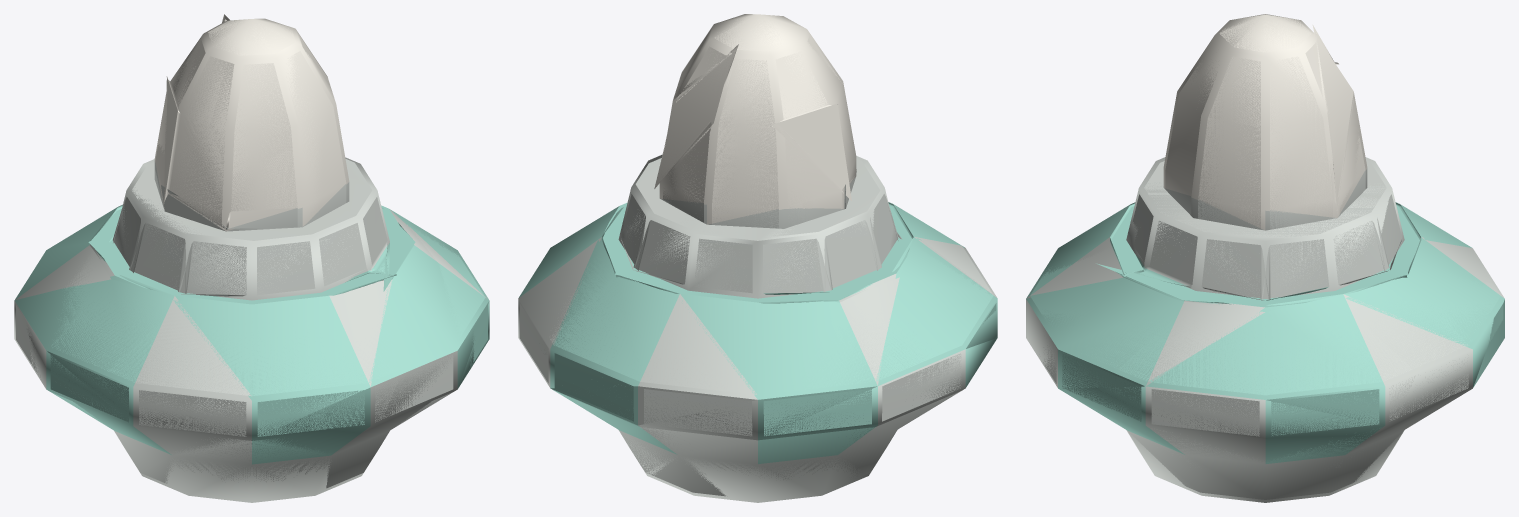
The model's file is tower-defense-kit__enemy-ufo-c.glb.
3 renders of one model, left to right at view 1: azimuth 30°, elevation 25°; view 2: azimuth 150°, elevation 25°; view 3: azimuth 270°, elevation 25°, orthographic.
Parts seen in each view (by area): view 1: L0_metal, L0_accent, L1_accent, L1_metal, L0_ivory, L1_ivory; view 2: L0_metal, L0_accent, L1_metal, L0_ivory, L1_accent, L1_ivory; view 3: L0_metal, L0_accent, L1_accent, L1_metal, L0_ivory, L1_ivory.
Boxes of the visible parts, left/top/right/bottom form: L0_metal: left=16, top=159, right=483, bottom=488; L0_accent: left=50, top=204, right=487, bottom=464; L1_accent: left=14, top=205, right=489, bottom=464; L1_metal: left=14, top=157, right=487, bottom=502; L0_ivory: left=155, top=14, right=346, bottom=229; L1_ivory: left=154, top=18, right=349, bottom=231; L0_metal: left=519, top=158, right=992, bottom=496; L0_accent: left=554, top=202, right=996, bottom=463; L1_metal: left=518, top=154, right=996, bottom=502; L0_ivory: left=654, top=14, right=856, bottom=223; L1_accent: left=519, top=202, right=997, bottom=463; L1_ivory: left=659, top=14, right=856, bottom=224; L0_metal: left=1030, top=160, right=1500, bottom=499; L0_accent: left=1030, top=202, right=1503, bottom=463; L1_accent: left=1026, top=205, right=1504, bottom=463; L1_metal: left=1026, top=157, right=1504, bottom=502; L0_ivory: left=1165, top=15, right=1365, bottom=228; L1_ivory: left=1163, top=14, right=1367, bottom=230.
Bounding box in the file's own units: 1 × 1 × 1.
